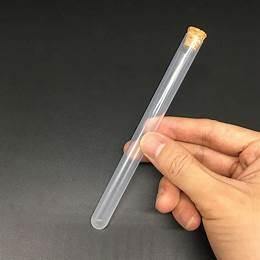Test tube: (80, 21, 212, 246)
